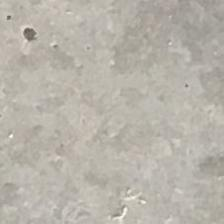Non_Crack: (5, 63, 224, 202)
